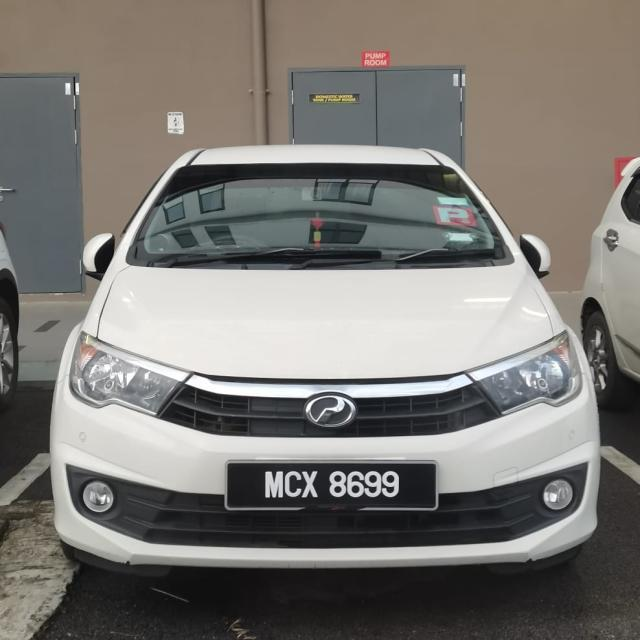PeroduaBezza: (48, 142, 602, 576)
